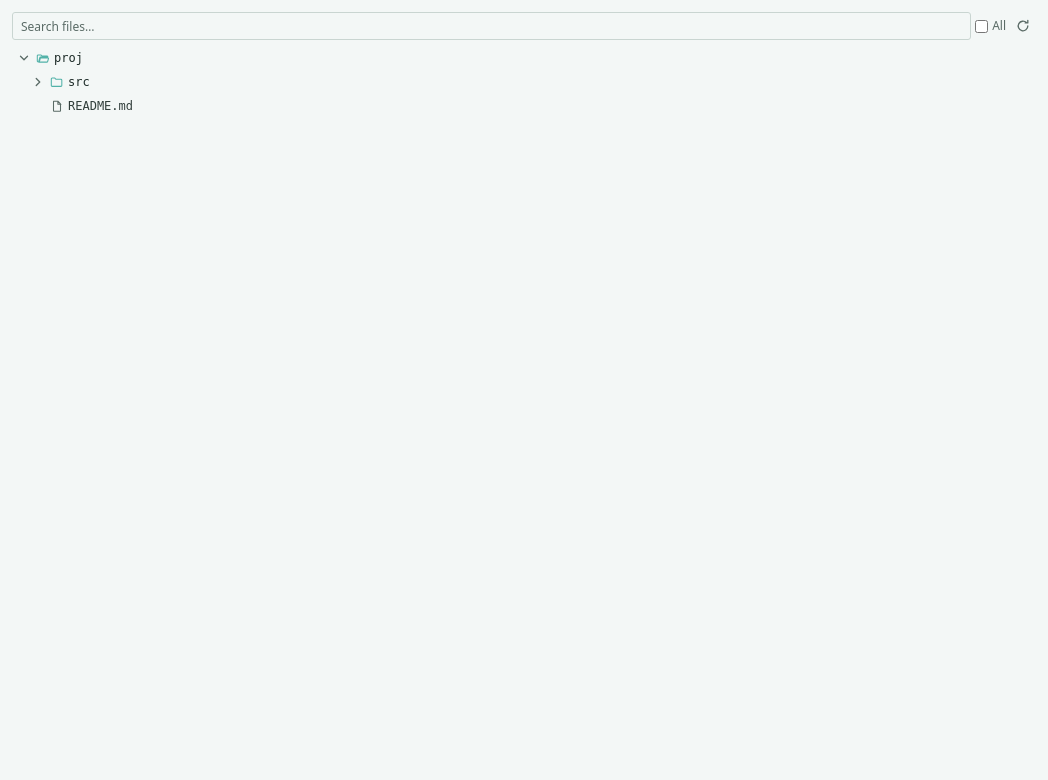
it: FileTree 右键菜单 › 右键目录行弹出菜单（含新建文件夹/删除），右键文件行不含新建文件夹
Right-click the button "src": coordinates (38, 82) [26,72,1012,92]
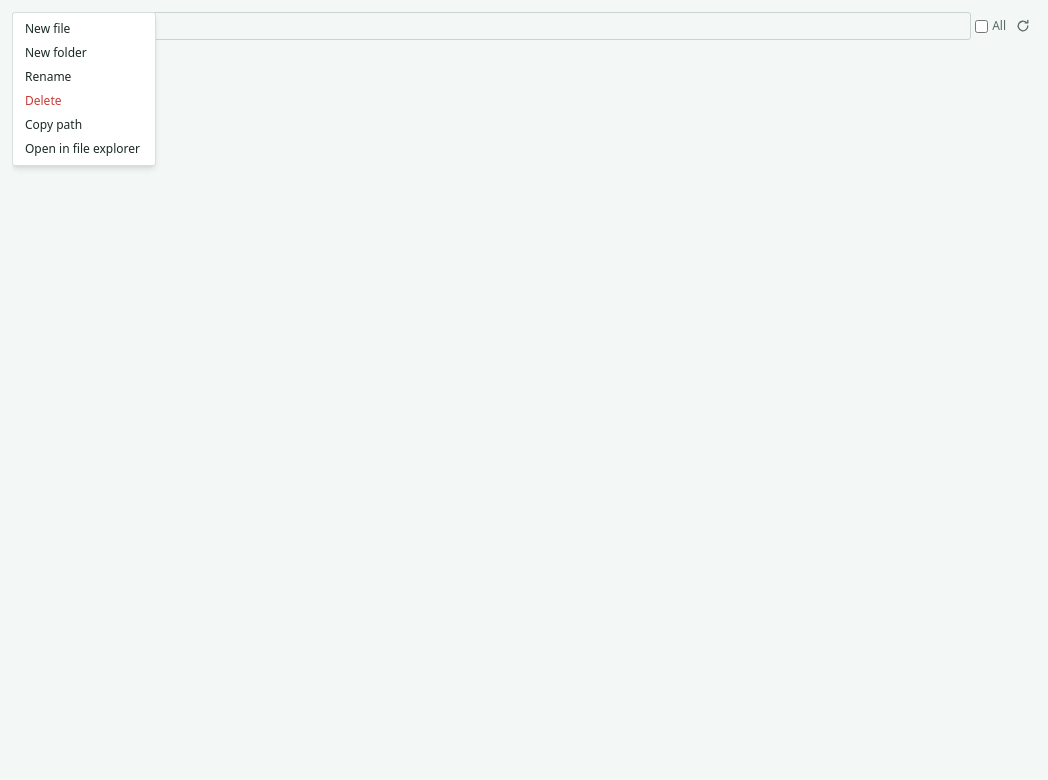
Result: the menu is shown at [12,12,156,166]
Result: the menu item "New folder" is shown at [17,41,151,65]
Result: the menu item "New file" is shown at [17,17,151,41]
Note: 关闭后右键文件行：不含新建两项
Press the mouse on the element that starts with "All": coordinates (524, 396) [12,12,1036,779]
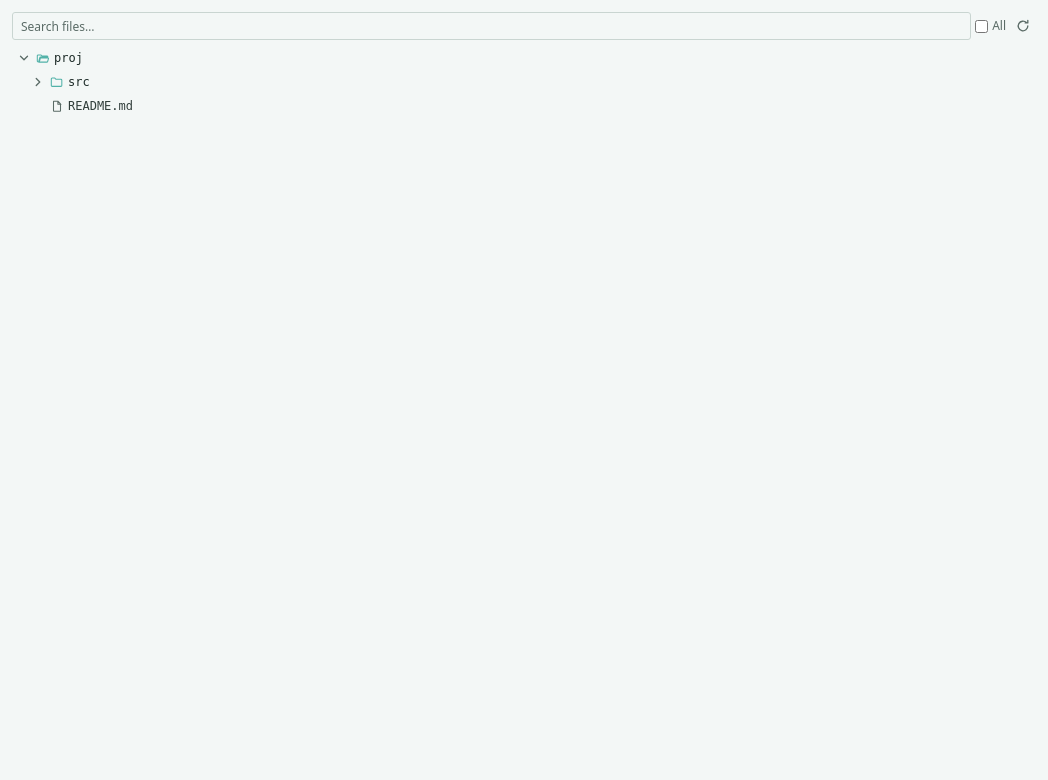
Result: the menu is gone
Right-click the button "README.md": coordinates (101, 106) [26,96,1012,116]
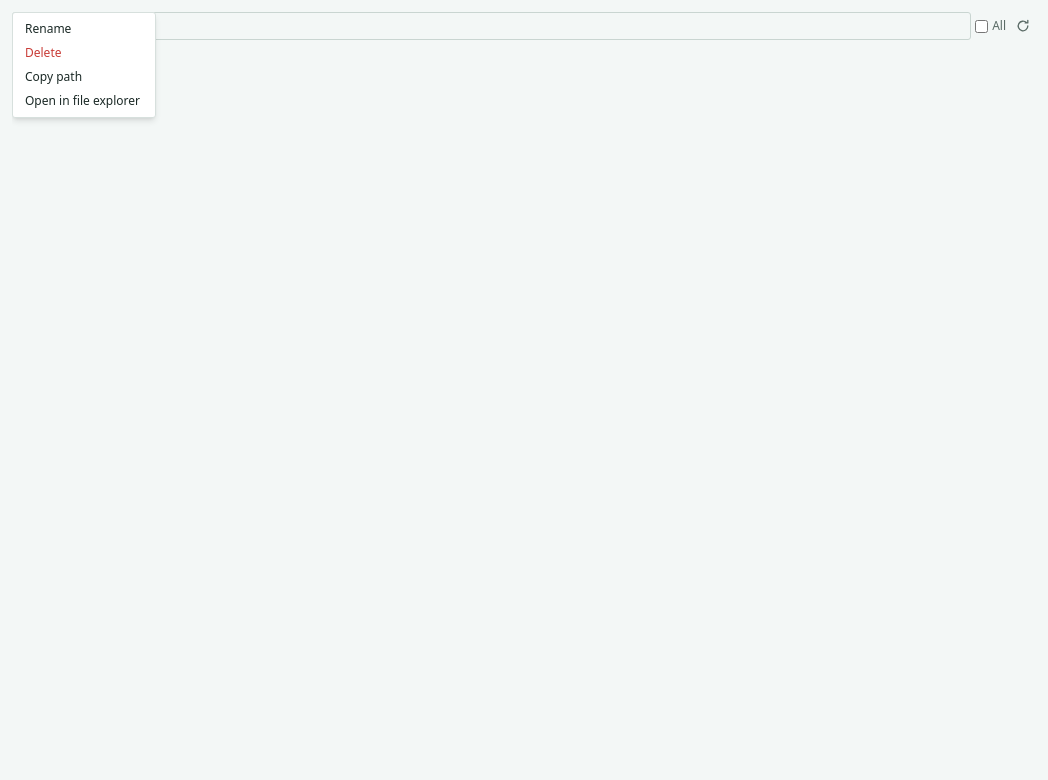
Expected: the menu item "New folder" is not shown
Result: the menu item "Rename" is shown at [17,17,151,41]
Result: the menu item "Copy path" is shown at [17,65,151,89]
